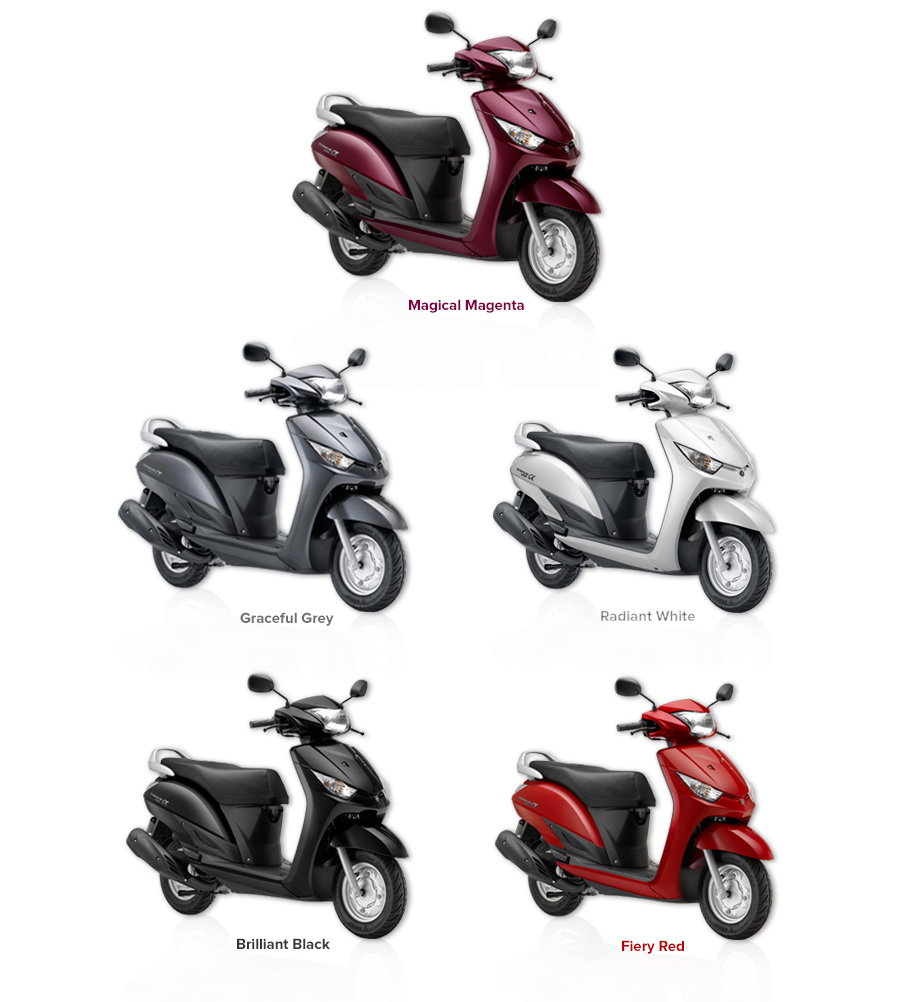bike: (287, 7, 597, 300), (114, 336, 406, 612), (486, 671, 781, 940), (121, 671, 408, 939), (489, 346, 771, 611)
